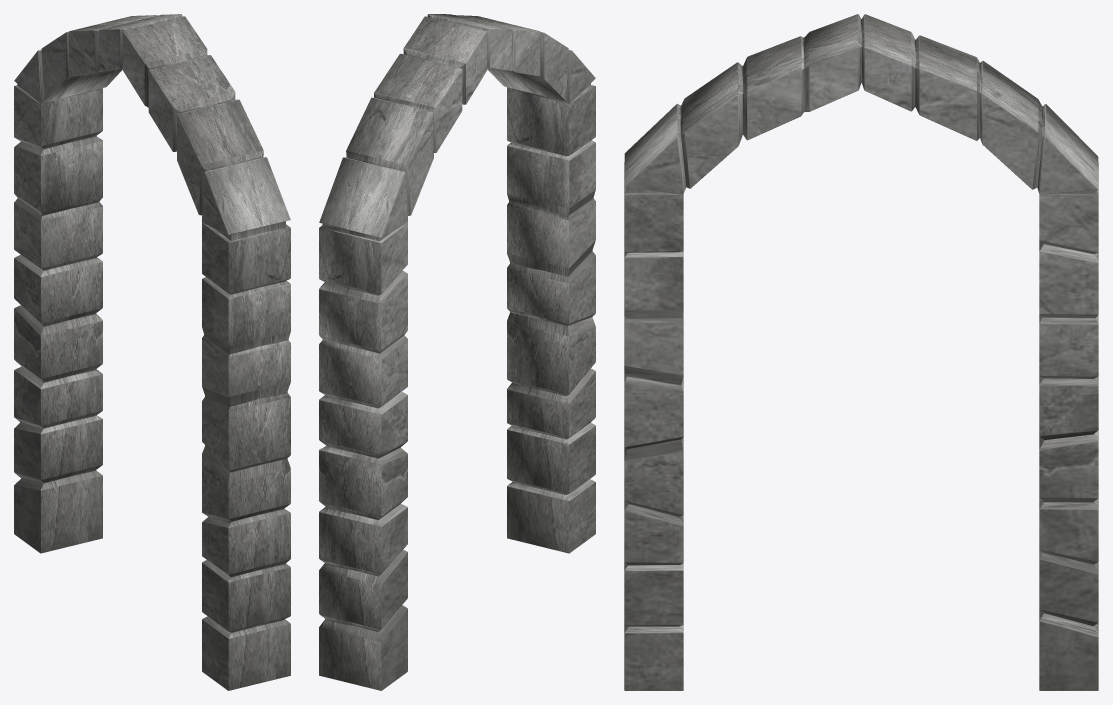
File: doors.fbx
3 views of the same model, side by side, from view 1: azimuth 30°, elevation 25°; view 2: azimuth 150°, elevation 25°; view 3: azimuth 270°, elevation 25° (orthographic). The views are drawn at different scales.
Parts seen in each view (by area): view 1: Cube; view 2: Cube; view 3: Cube.
Boxes of the visible parts, x1,y1,x2,y2 form: Cube: (14,14,290,690); Cube: (319,14,595,690); Cube: (624,14,1098,690).
Bounding box in the file's own units: 33.71 × 300 × 200.
1 material, 1 textured.
